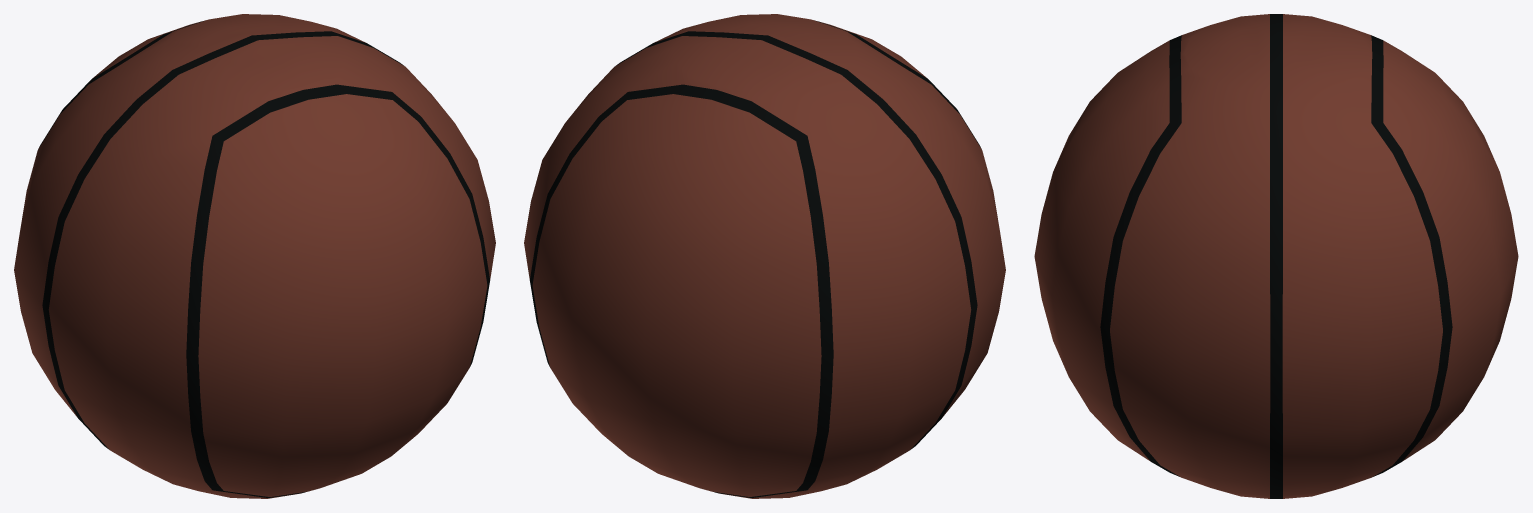
File: Basketball.fbx
The picture shows the model from 3 angles, left to right: view 1: azimuth 30°, elevation 25°; view 2: azimuth 150°, elevation 25°; view 3: azimuth 270°, elevation 25°; orthographic projection.
Parts seen in each view (by area): view 1: Basketball; view 2: Basketball; view 3: Basketball.
Boxes of the visible parts, x1,y1,x2,y2 form: Basketball: [14, 14, 495, 498]; Basketball: [524, 14, 1005, 498]; Basketball: [1034, 14, 1518, 498].
Size of the model in its own units: 39.79 by 39.7 by 39.79.
1 material, 1 textured.
